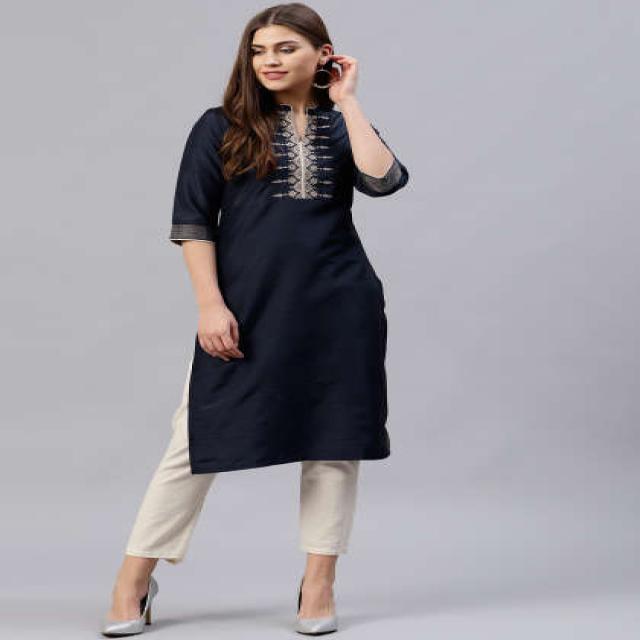mobile_phonerotation: (311, 56, 341, 89)
